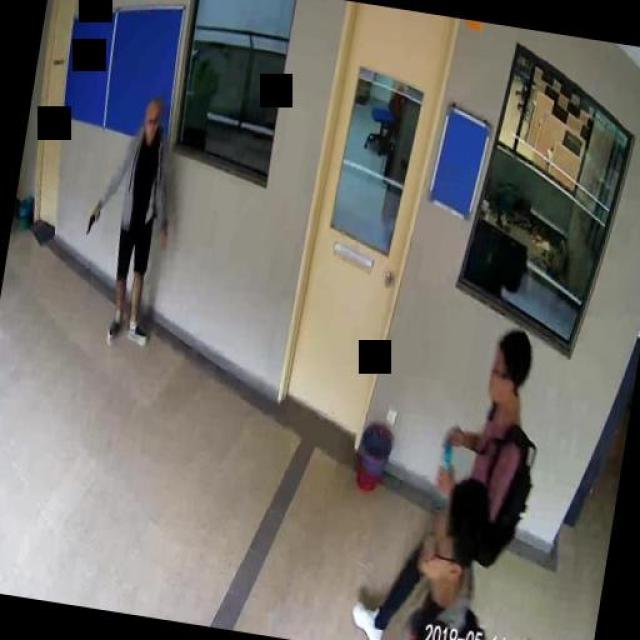gun: (85, 207, 99, 235)
